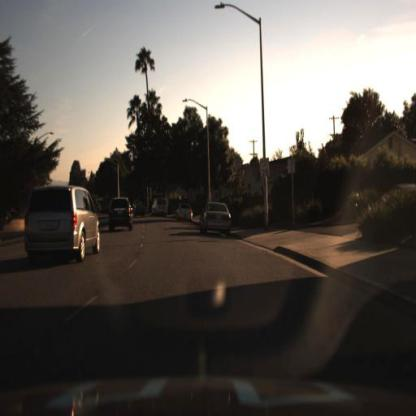car: (24, 182, 102, 267), (200, 200, 231, 236), (111, 194, 134, 238), (175, 201, 193, 224), (152, 197, 169, 219)
